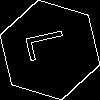L: (25, 25, 77, 63)
